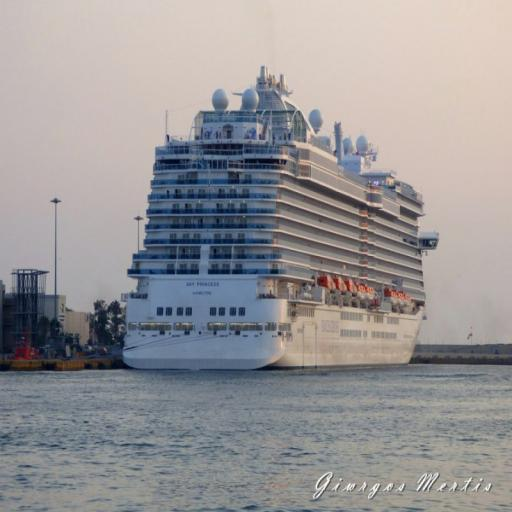cruises: (118, 61, 443, 380)
